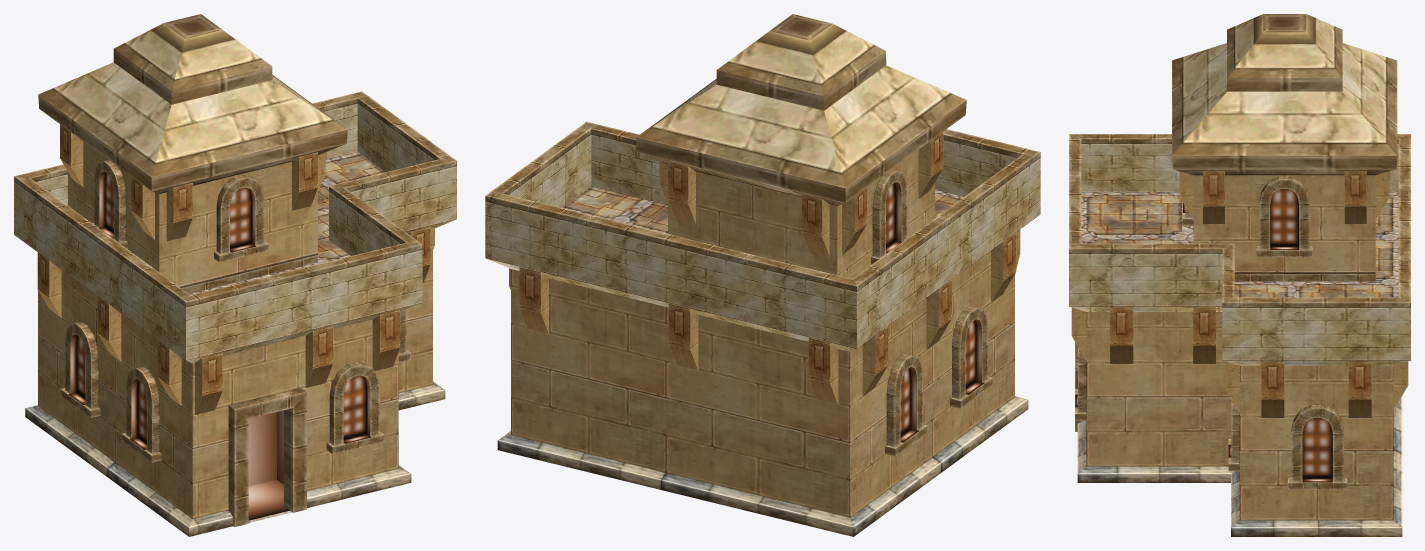
The model's file is DesertTown - house - M2.fbx.
3 renders of one model, left to right at view 1: azimuth 30°, elevation 25°; view 2: azimuth 150°, elevation 25°; view 3: azimuth 270°, elevation 25°, orthographic. The views are drawn at different scales.
Visible parts, largest first — view 1: house_M2, lightobj3; view 2: house_M2, lightobj3; view 3: house_M2, lightobj3.
Part boxes in pixels (x1,y1,x2,y2): house_M2: (14,14,456,536); lightobj3: (68,171,370,520); house_M2: (485,14,1040,536); lightobj3: (886,182,984,442); house_M2: (1069,14,1410,536); lightobj3: (1075,189,1332,482).
Bounding box in the file's own units: 6.25 × 7 × 5.35.
